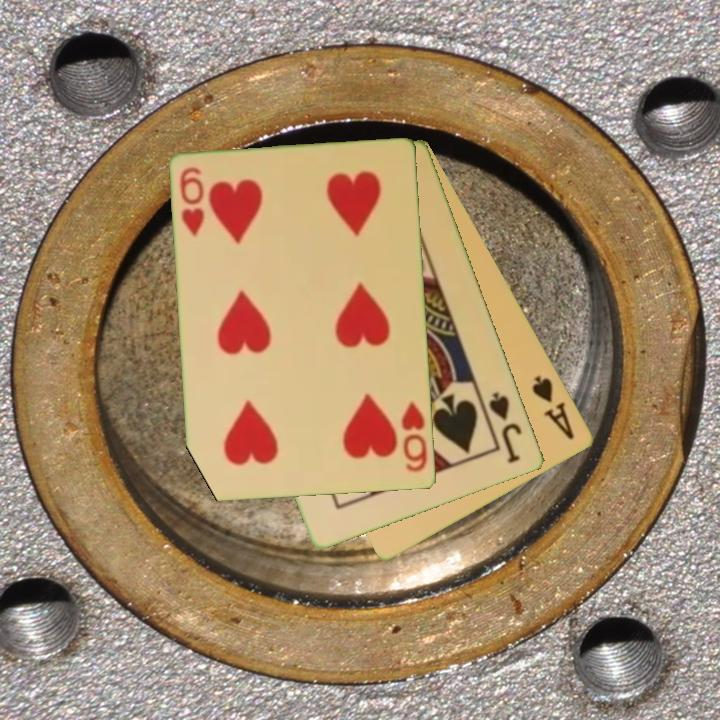6h: (398, 398, 431, 475), (177, 164, 208, 239)
As: (529, 371, 578, 443)
Js: (486, 388, 526, 467)
